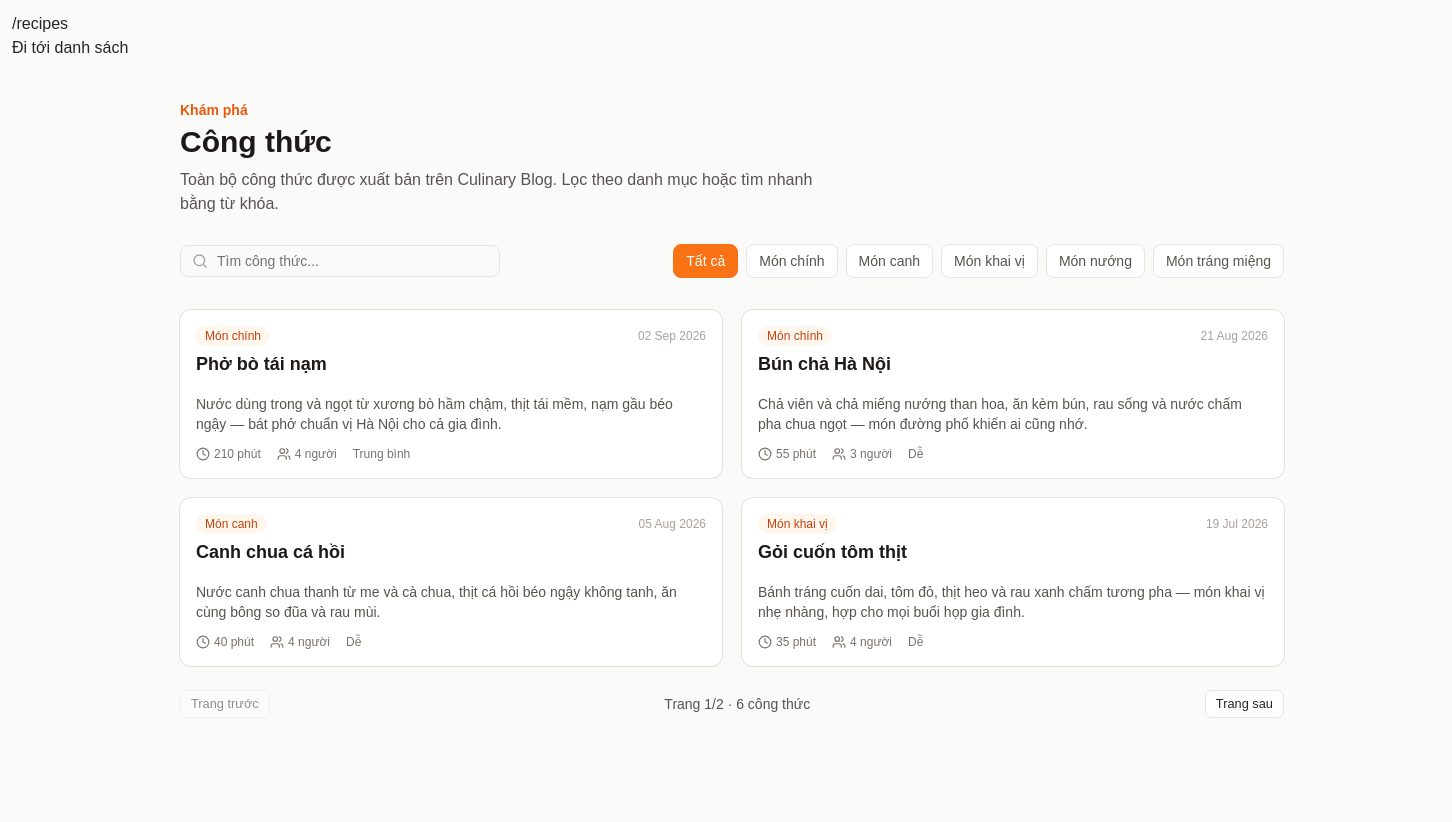
Test: RecipesBrowsePage › narrows the list down with a keyword
This screenshot has width=1452, height=822.
Expected: the heading "Phở bò tái nạm" is shown, [196,354,327,374]
In the search field labelled "Tìm công thức": point(340, 261) [180,245,500,277], type "chè"
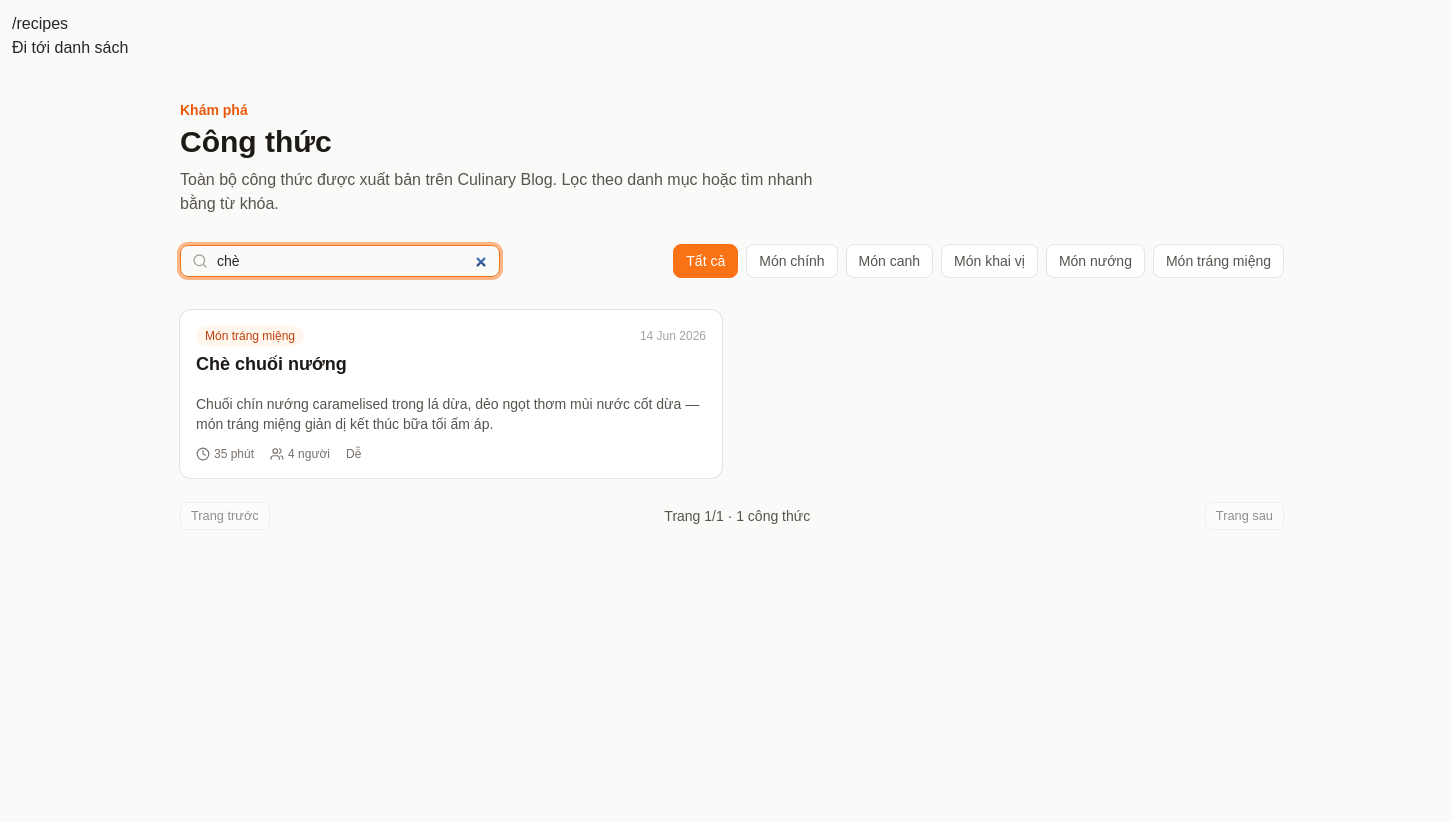
Result: the heading "Chè chuối nướng" is shown at [196,354,347,374]
Result: the link "Phở bò tái nạm" is gone
